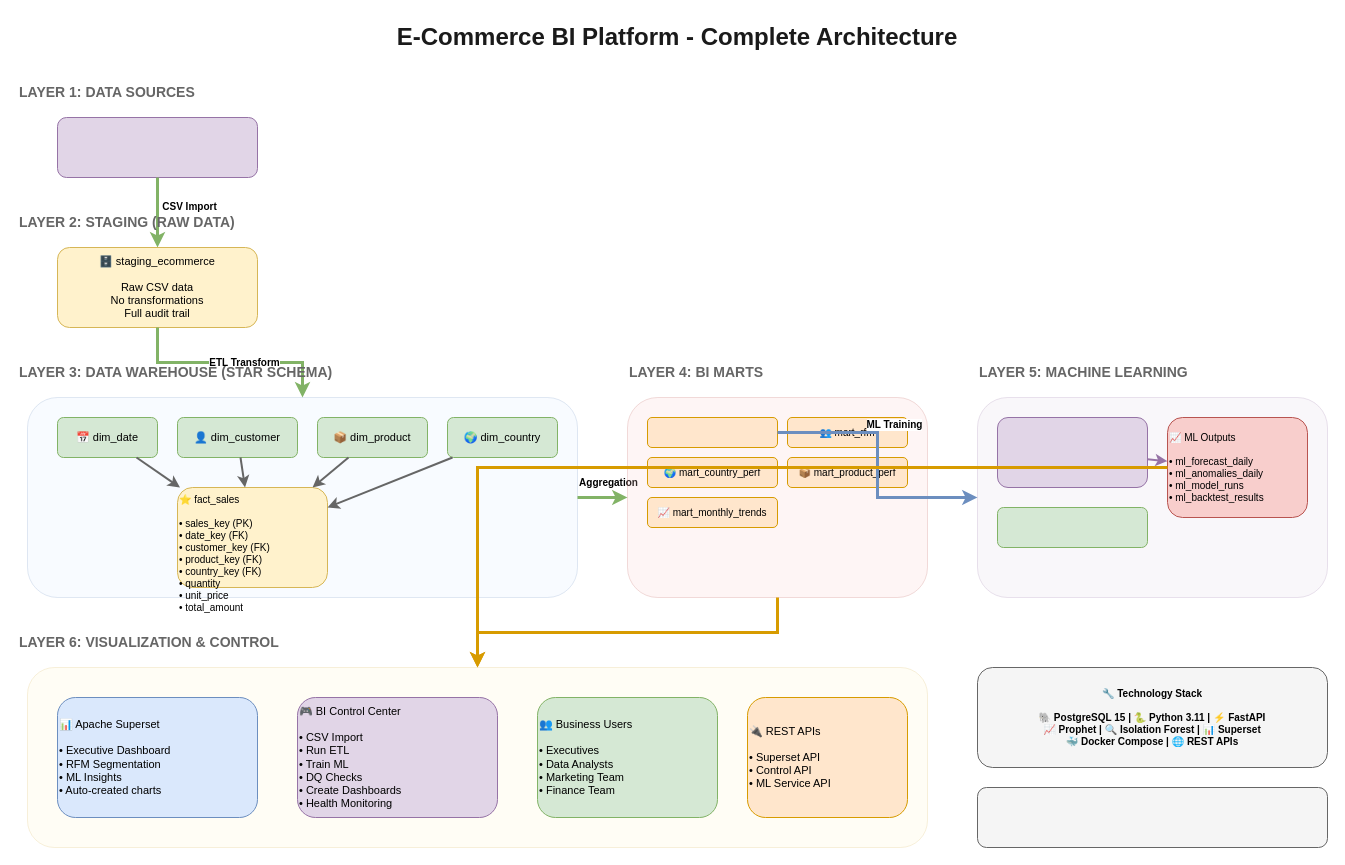
Some shapes in this 1345 by 865 pixel diagram are drawn without their labels. Here are the shapes that lost their labels. From the top down, the box of each, then its label:
(56, 116, 258, 178): 📄 CSV Files (data.csv, source.csv)
(646, 416, 778, 448): 📊 mart_daily_kpis
(996, 416, 1148, 488): 🤖 ML Models • Prophet (Forecasting) • Isolation Forest (Anomalies)
(996, 506, 1148, 548): 📊 ml_model_runs (Version tracking)
(976, 786, 1328, 848): 📊 Key Metrics ⚡ Dashboard: <500ms 🎯 Forecast MAPE: 8-12% 🤖 Automation: 2h → 30s
